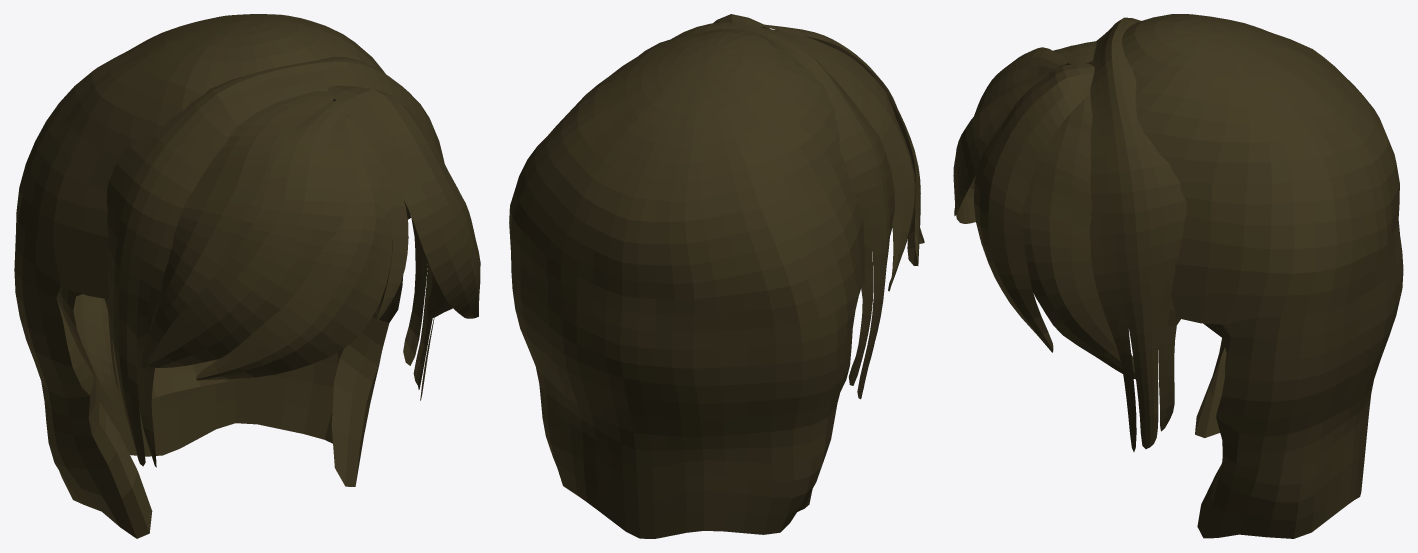
File: Kami02.fbx
3 renders of one model, left to right at view 1: azimuth 30°, elevation 25°; view 2: azimuth 150°, elevation 25°; view 3: azimuth 270°, elevation 25°, orthographic. The views are drawn at different scales.
Parts seen in each view (by area): view 1: Kami02; view 2: Kami02; view 3: Kami02.
Boxes of the visible parts, box(x1,y1,x2,y2) form: Kami02: box(14, 14, 480, 538); Kami02: box(509, 14, 924, 538); Kami02: box(953, 14, 1403, 538).
Size of the model in its own units: 18.03 by 23.33 by 20.49.
